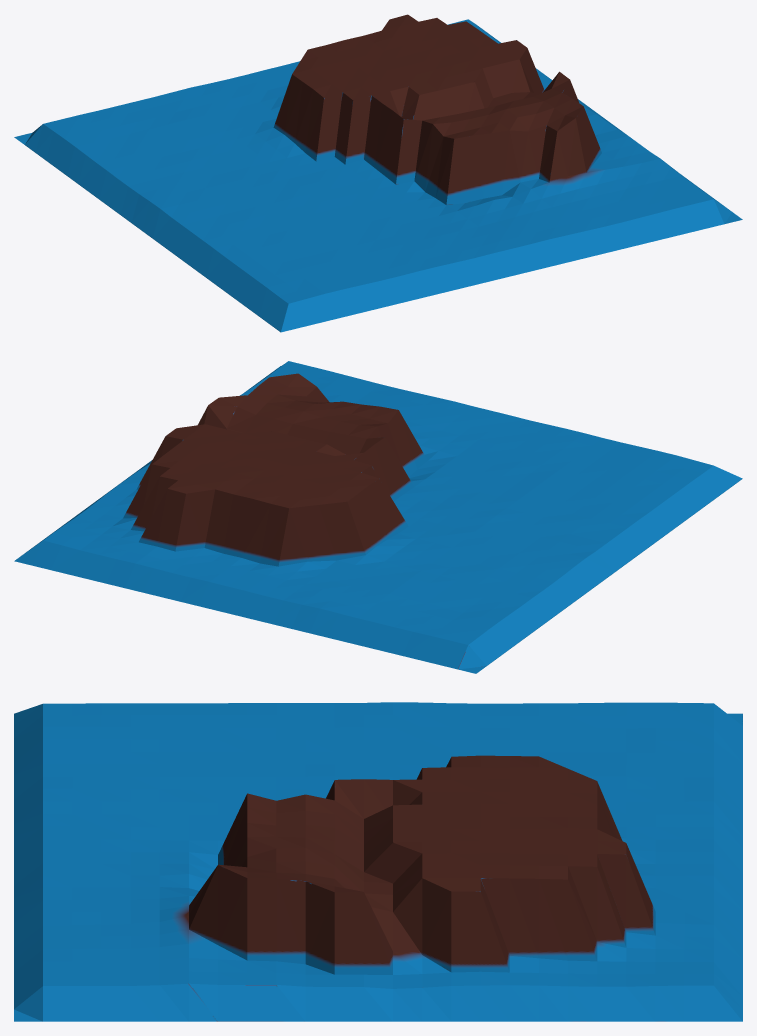
File: Tile9.fbx
3 renders of one model, top to bottom at view 1: azimuth 30°, elevation 25°; view 2: azimuth 150°, elevation 25°; view 3: azimuth 270°, elevation 25°, orthographic. The views are drawn at different scales.
Parts seen in each view (by area): view 1: ImageToStl.com_9; view 2: ImageToStl.com_9; view 3: ImageToStl.com_9.
Boxes of the visible parts, x1,y1,x2,y2 form: ImageToStl.com_9: [14, 14, 742, 332]; ImageToStl.com_9: [14, 361, 742, 673]; ImageToStl.com_9: [14, 702, 742, 1021].
Size of the model in its own units: 10417 by 1500 by 10417.
Materials: 1 (1 with a texture image).
